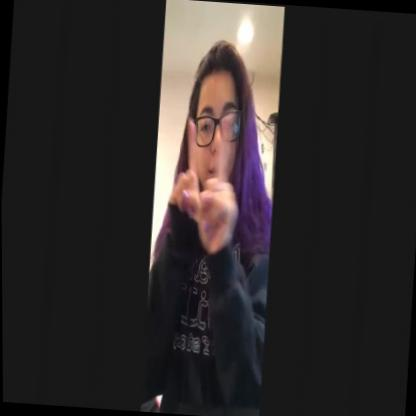NiceToMeetYou: (167, 101, 246, 274)
